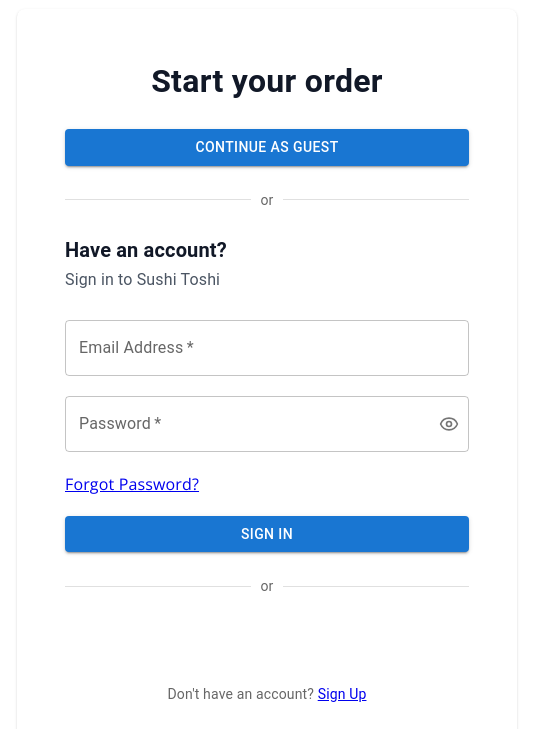
Test: LoginForm › Guest Login › asks guests to wait when guest sign-in is rate limited
What coordinates should you click on to do the following:
click the button "Continue as Guest"
I would click on:
 (267, 147)
Its box is [65, 129, 469, 166].
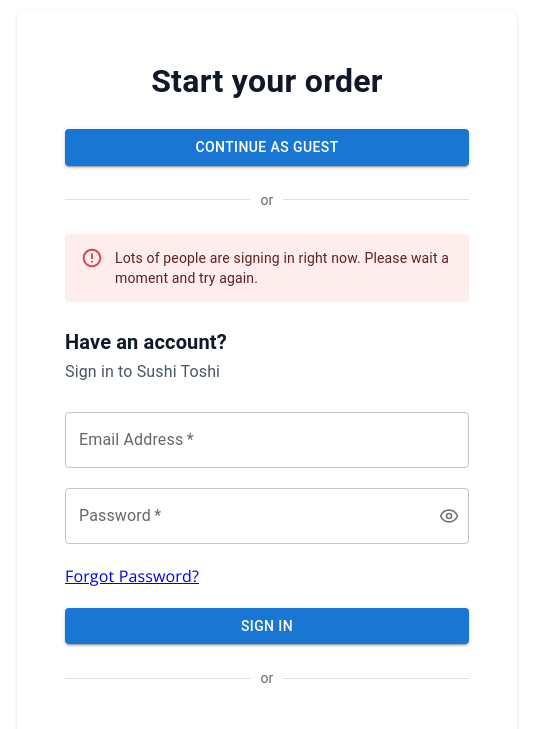
Expected: the text "Please wait a moment and try again" is shown, [115, 250, 449, 286]
